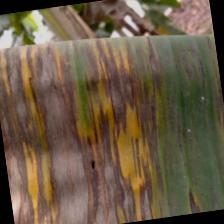sigatoka: (0, 17, 224, 224)
